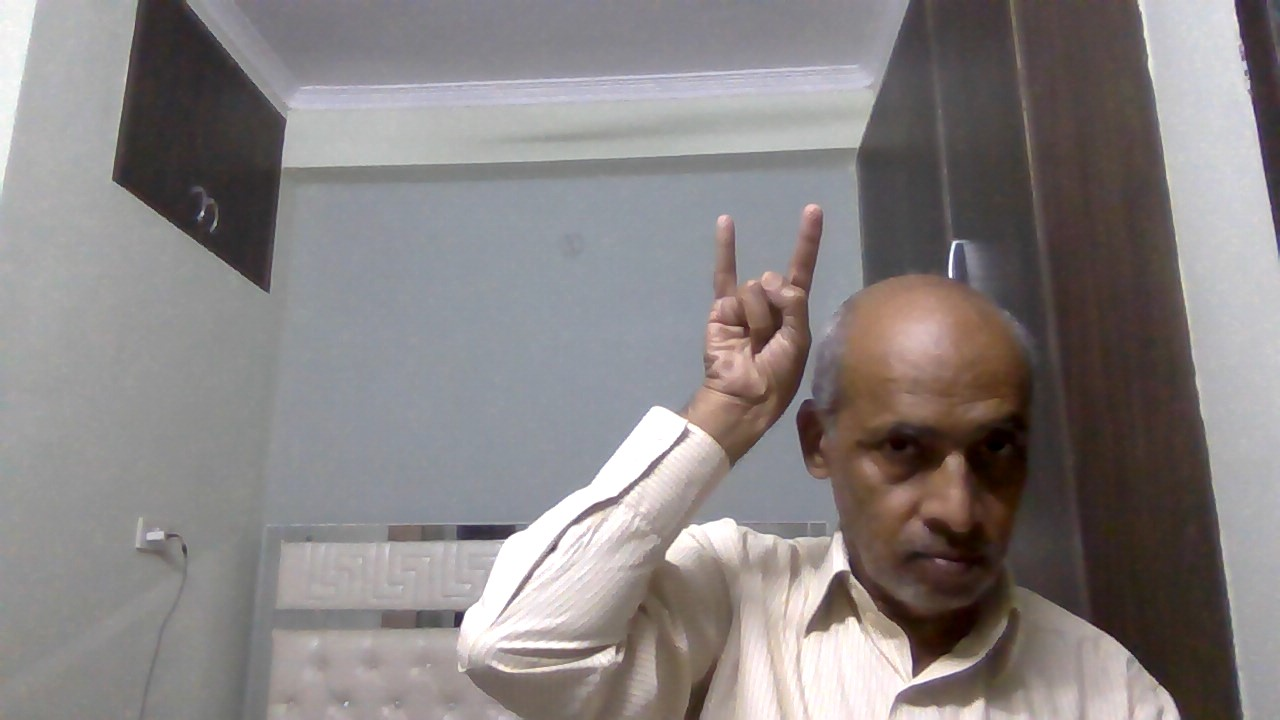Select All: (686, 198, 837, 444)
